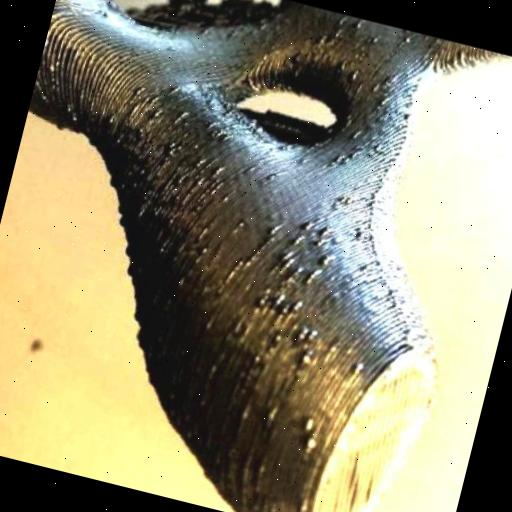blobs: (320, 246, 340, 268), (299, 350, 320, 368), (302, 413, 320, 431), (307, 324, 324, 343), (346, 66, 363, 85), (273, 326, 288, 344), (304, 436, 320, 452), (253, 291, 269, 306), (336, 58, 350, 74), (250, 353, 266, 367), (352, 360, 368, 373), (278, 304, 294, 316), (301, 218, 314, 231)
